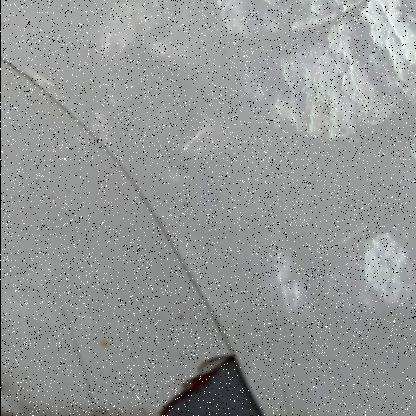Crack: (0, 28, 264, 416), (136, 346, 286, 416)
